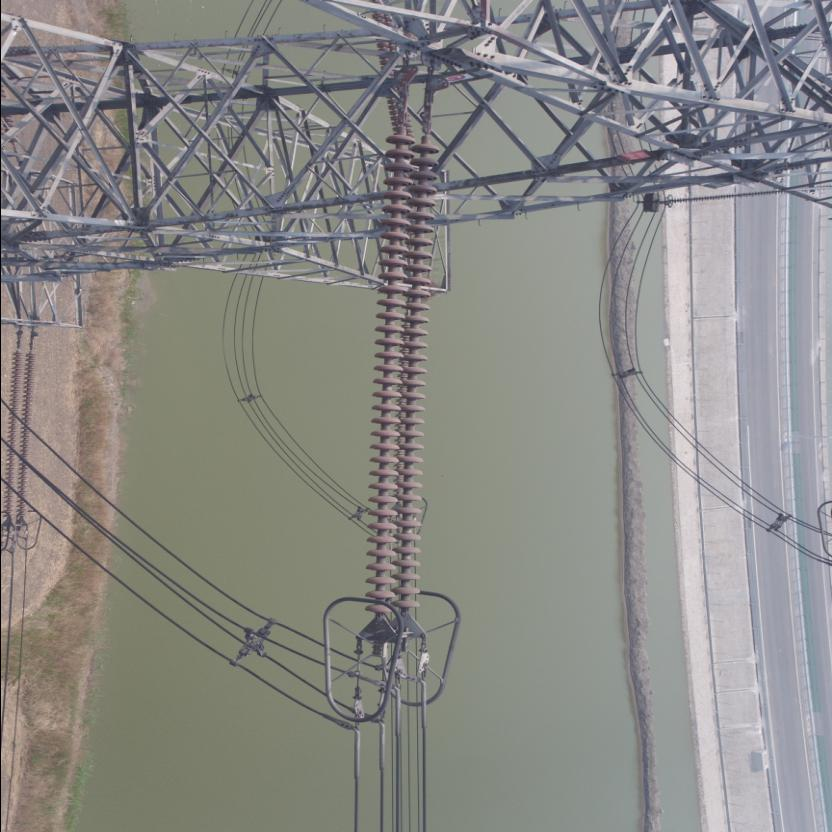insulator: (364, 108, 445, 626)
